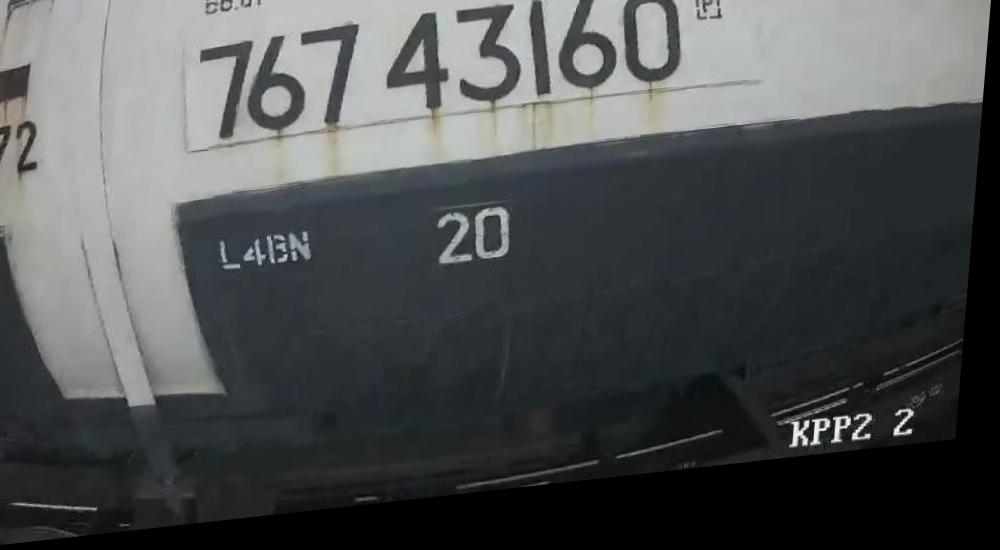Wagon-number: (187, 0, 696, 149)
